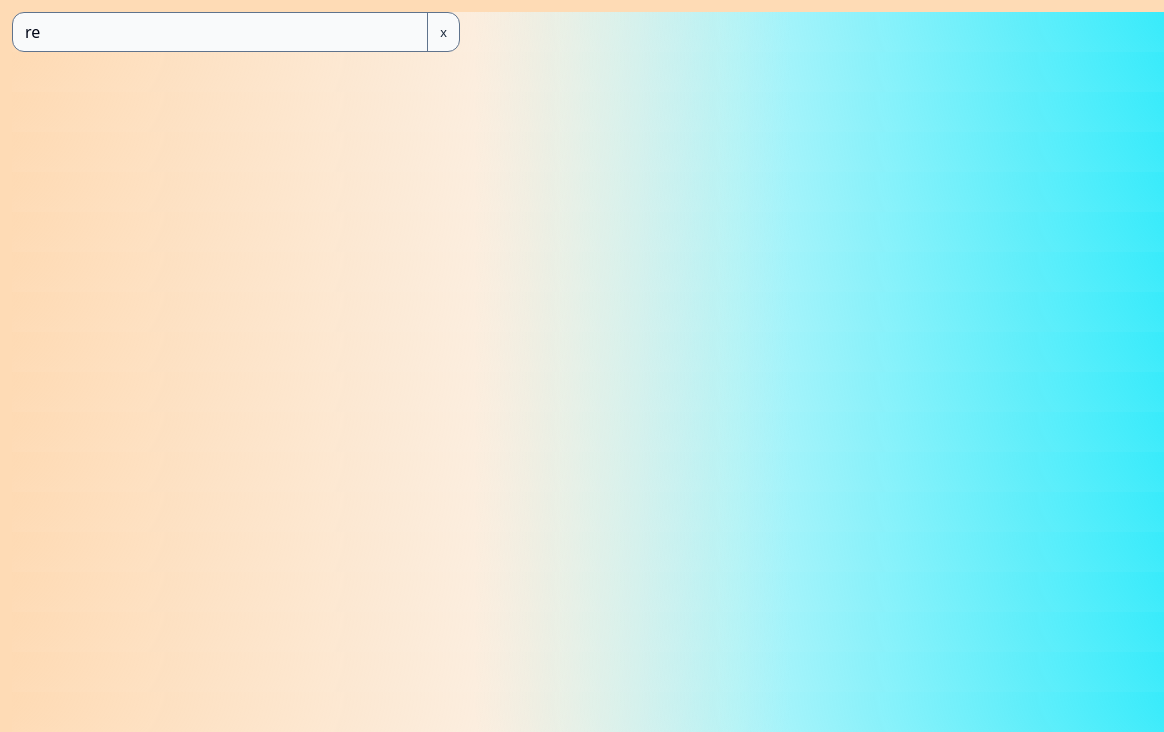
SearchInput › неуправляемый режим › defaultValue и ввод, onValueChange и onChange вызываются
Type "act" into the search field named "Find" at coordinates (220, 32), box [13,13,427,51]
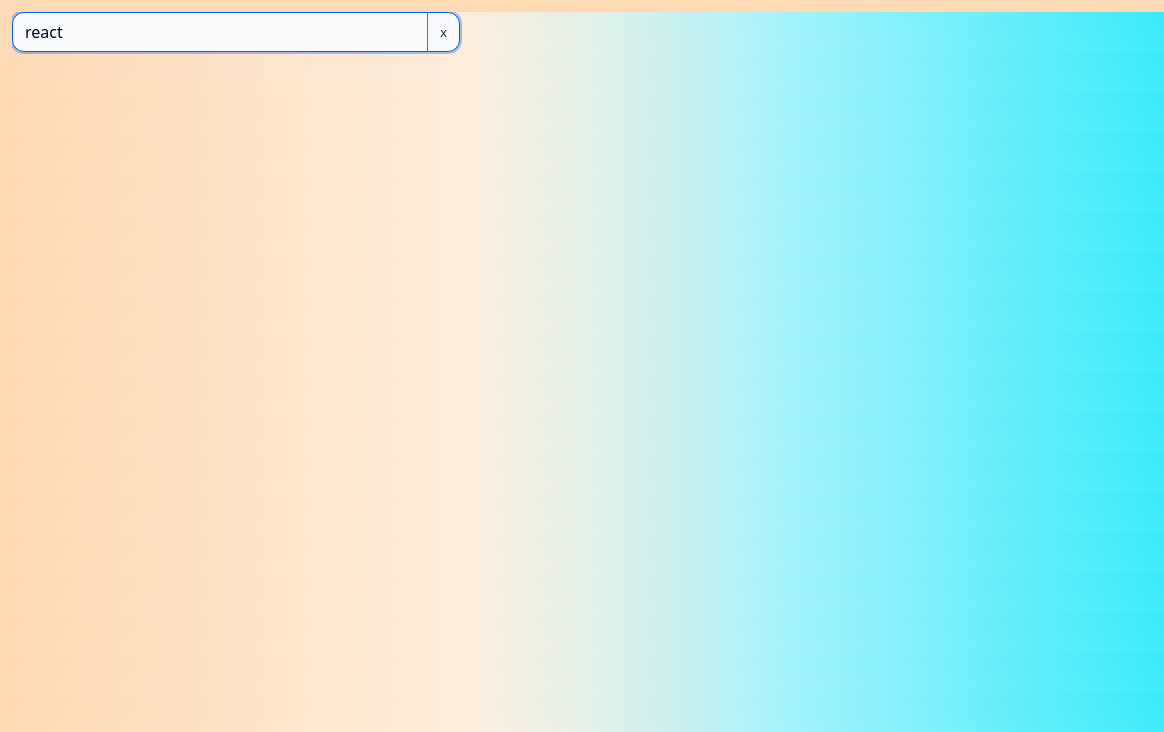
Expected: the search field named "Find" holds "react", [13,13,427,51]
